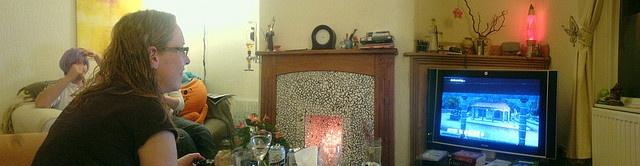AIO PC-Monitor-TV: (425, 66, 558, 160)
